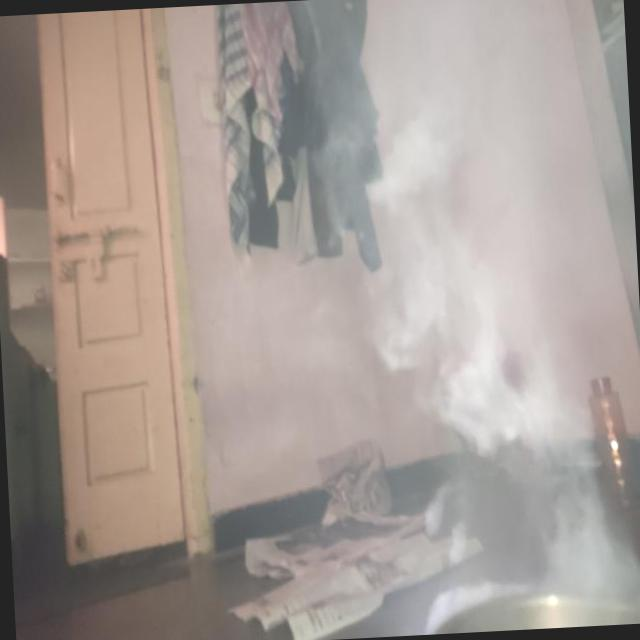smoke: (368, 194, 580, 544)
